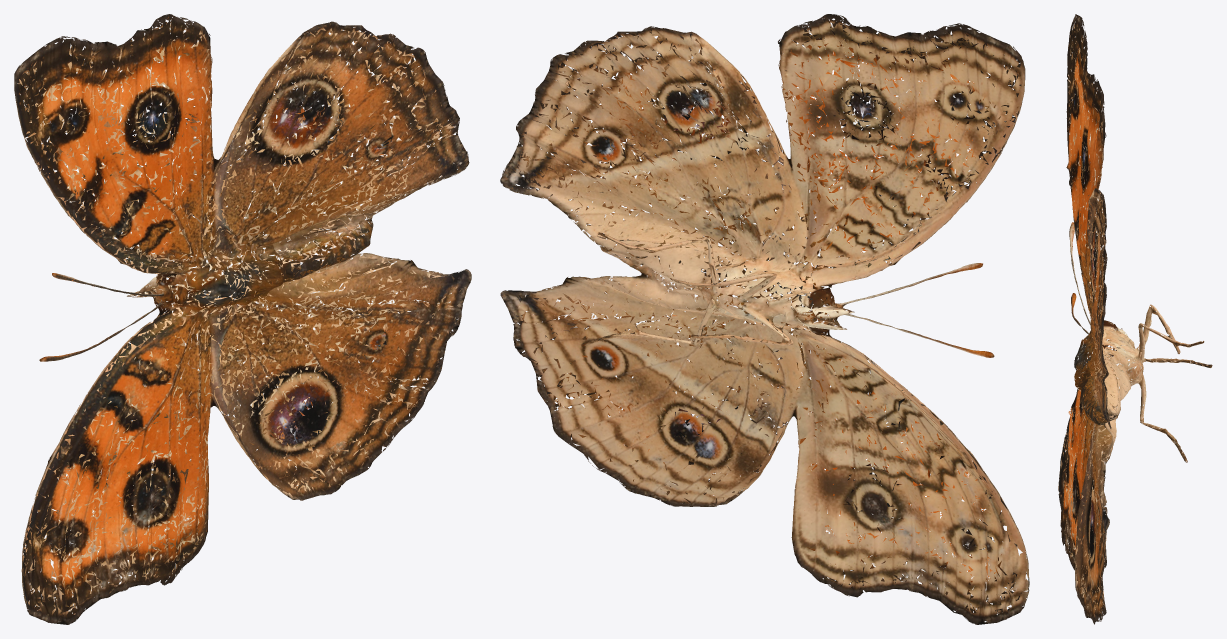
The model's file is papillon-leger.glb.
3 views of the same model, side by side, from view 1: azimuth 30°, elevation 25°; view 2: azimuth 150°, elevation 25°; view 3: azimuth 270°, elevation 25° (orthographic). The views are drawn at different scales.
Parts seen in each view (by area): view 1: QS1462-W23-1-1_1; view 2: QS1462-W23-1-1_1; view 3: QS1462-W23-1-1_1.
Boxes of the visible parts, bbox=[...] form: QS1462-W23-1-1_1: bbox=[14, 14, 471, 624]; QS1462-W23-1-1_1: bbox=[500, 14, 1029, 624]; QS1462-W23-1-1_1: bbox=[1058, 14, 1212, 624].
Bounding box in the file's own units: 0.0514 × 0.0594 × 0.0158.
1 material, 1 textured.
